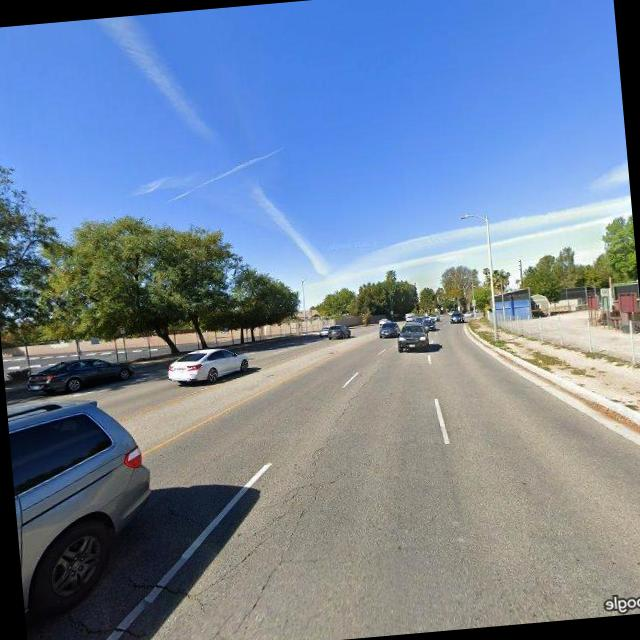crack: (169, 438, 361, 640), (106, 558, 200, 606), (58, 606, 149, 640)
